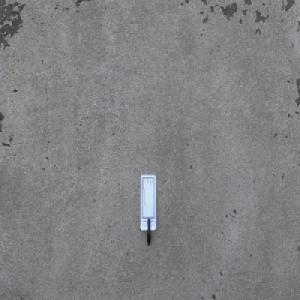LuggageTag: (139, 173, 157, 247)
